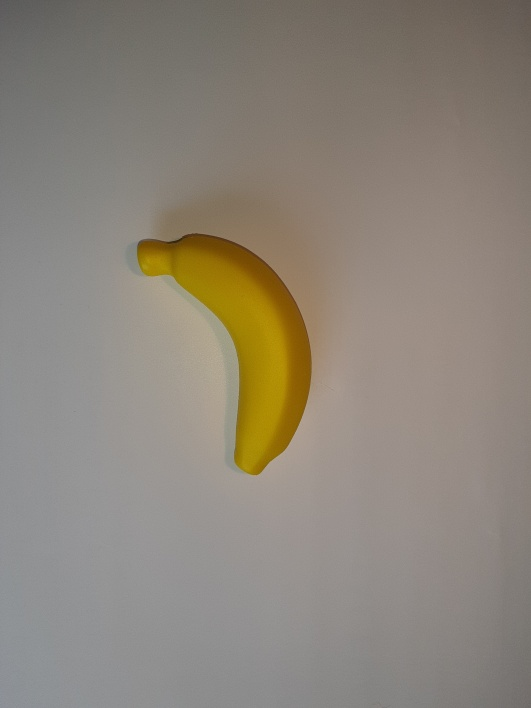banana: (138, 233, 306, 332)
